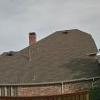Chimney: (25, 25, 38, 45)
